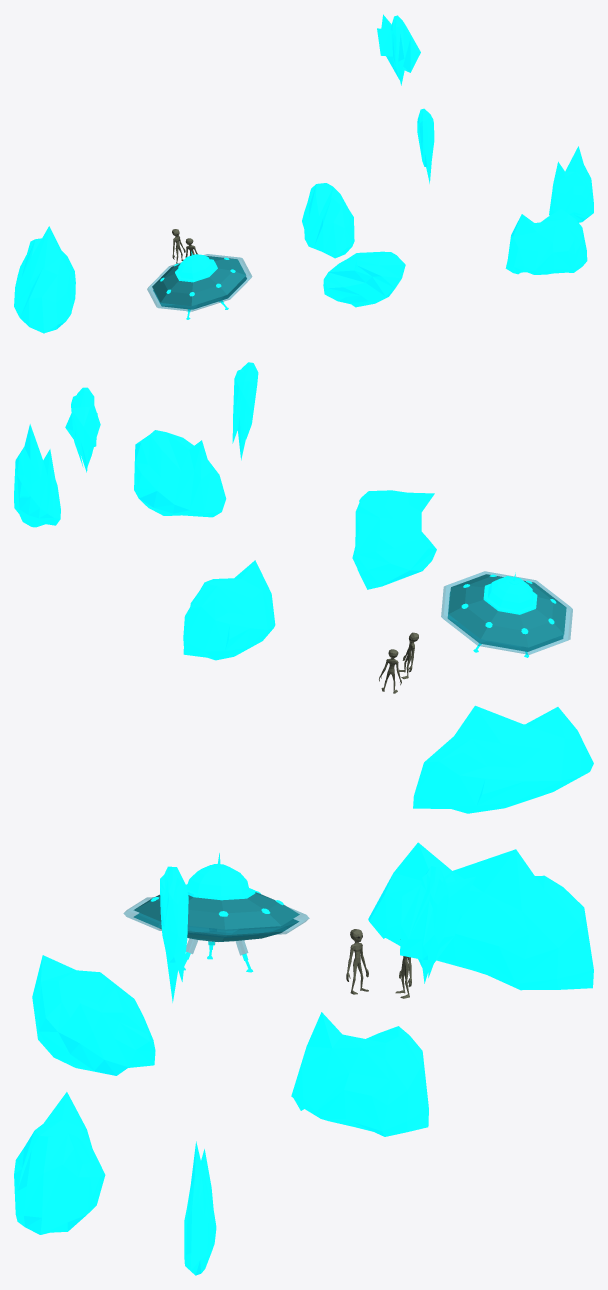
The model's file is AlienCave.glb.
The picture shows the model from 3 angles, top to bottom: view 1: azimuth 30°, elevation 25°; view 2: azimuth 150°, elevation 25°; view 3: azimuth 270°, elevation 25°; orthographic projection. The views are drawn at different scales.
Parts seen in each view (by area): view 1: 1222 Iceberg.011, flying sacuer, 1222 Iceberg.007, 1222 Iceberg.009, 1222 Iceberg.008, 1222 Iceberg.010, 1222 Iceberg.013, 1222 Iceberg.012, 1222 Iceberg.006; view 2: 1222 Iceberg.011, flying sacuer, 1222 Iceberg.008, 1222 Iceberg.009, 1222 Iceberg.007, 1222 Iceberg.010, 1222 Iceberg.013, 1222 Iceberg.012, 1222 Iceberg.006; view 3: 1222 Iceberg.011, 1222 Iceberg.008, 1222 Iceberg.009, 1222 Iceberg.007, flying sacuer, 1222 Iceberg.013, 1222 Iceberg.012, 1222 Iceberg.010, 1222 Iceberg.006, Alien.
Boxes of the visible parts, x1,y1,x2,y2 form: 1222 Iceberg.011: [14, 226, 75, 333]; flying sacuer: [147, 251, 251, 319]; 1222 Iceberg.007: [505, 209, 587, 274]; 1222 Iceberg.009: [323, 251, 405, 307]; 1222 Iceberg.008: [302, 183, 354, 258]; 1222 Iceberg.010: [549, 146, 593, 214]; 1222 Iceberg.013: [377, 14, 420, 85]; 1222 Iceberg.012: [417, 108, 434, 183]; 1222 Iceberg.006: [549, 192, 593, 222]; 1222 Iceberg.011: [413, 705, 593, 813]; flying sacuer: [441, 571, 572, 657]; 1222 Iceberg.008: [183, 560, 275, 660]; 1222 Iceberg.009: [352, 490, 436, 589]; 1222 Iceberg.007: [134, 430, 226, 517]; 1222 Iceberg.010: [14, 424, 60, 518]; 1222 Iceberg.013: [65, 387, 100, 472]; 1222 Iceberg.012: [232, 362, 258, 460]; 1222 Iceberg.006: [14, 476, 60, 527]; 1222 Iceberg.011: [368, 842, 593, 990]; 1222 Iceberg.008: [291, 1012, 428, 1136]; 1222 Iceberg.009: [32, 955, 155, 1075]; 1222 Iceberg.007: [14, 1092, 105, 1234]; flying sacuer: [123, 853, 309, 972]; 1222 Iceberg.013: [400, 866, 475, 983]; 1222 Iceberg.012: [160, 866, 188, 1002]; 1222 Iceberg.010: [184, 1141, 216, 1269]; 1222 Iceberg.006: [184, 1197, 216, 1275]; Alien: [346, 929, 368, 994].
Bounding box in the file's own units: 41.72 × 17.82 × 24.28.
4 materials, 1 textured.
